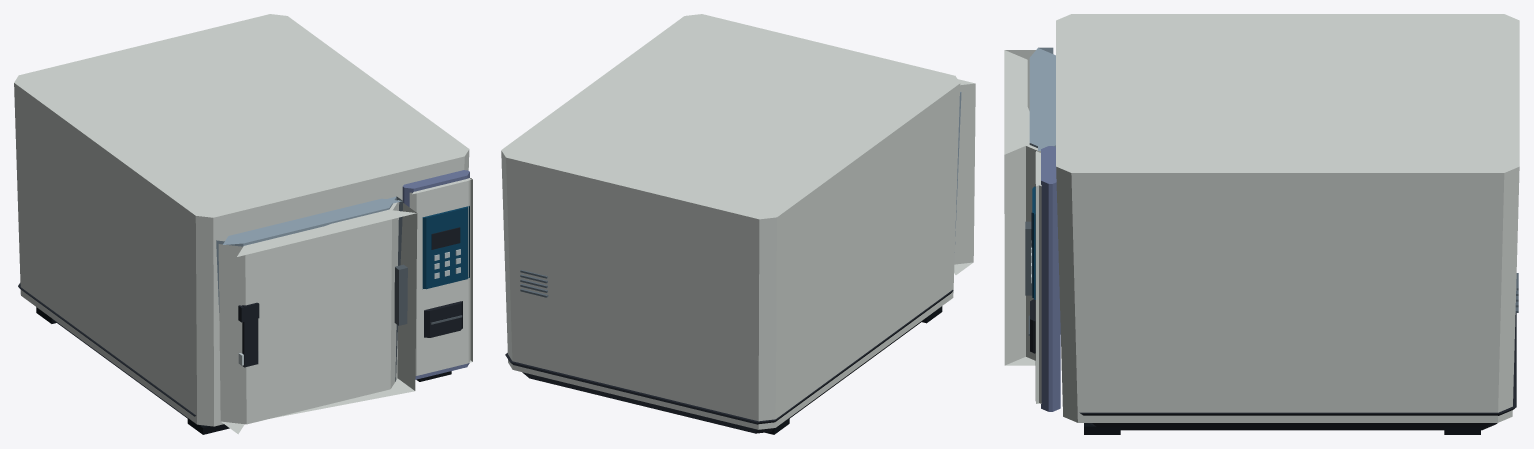
Rendered from 3870ea-tray-gauge.glb.
3 renders of one model, left to right at view 1: azimuth 30°, elevation 25°; view 2: azimuth 150°, elevation 25°; view 3: azimuth 270°, elevation 25°, orthographic. The views are drawn at different scales.
Parts seen in each view (by area): view 1: shell, closed_door, facade, display, base, locked_latch; view 2: shell, base, closed_door, rear_cosmetic; view 3: shell, closed_door, facade, base, display.
Boxes of the visible parts, left/top/right/bottom form: shell: left=14, top=14, right=469, bottom=426; closed_door: left=216, top=196, right=417, bottom=434; facade: left=402, top=170, right=472, bottom=379; display: left=422, top=206, right=469, bottom=337; base: left=18, top=283, right=451, bottom=434; locked_latch: left=238, top=302, right=259, bottom=367; shell: left=501, top=14, right=960, bottom=429; base: left=505, top=290, right=953, bottom=434; closed_door: left=954, top=79, right=975, bottom=274; rear_cosmetic: left=520, top=270, right=548, bottom=297; shell: left=1056, top=14, right=1519, bottom=422; closed_door: left=1004, top=47, right=1055, bottom=365; facade: left=1035, top=146, right=1060, bottom=411; base: left=1079, top=313, right=1516, bottom=434; display: left=1028, top=186, right=1035, bottom=353.
Size of the model in its own units: 0.665 by 0.525 by 0.9105.
